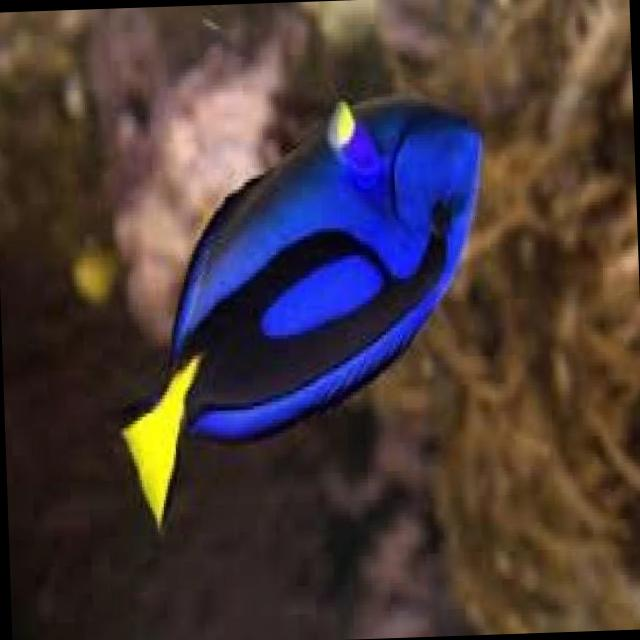BlueTang: (108, 91, 491, 532)
